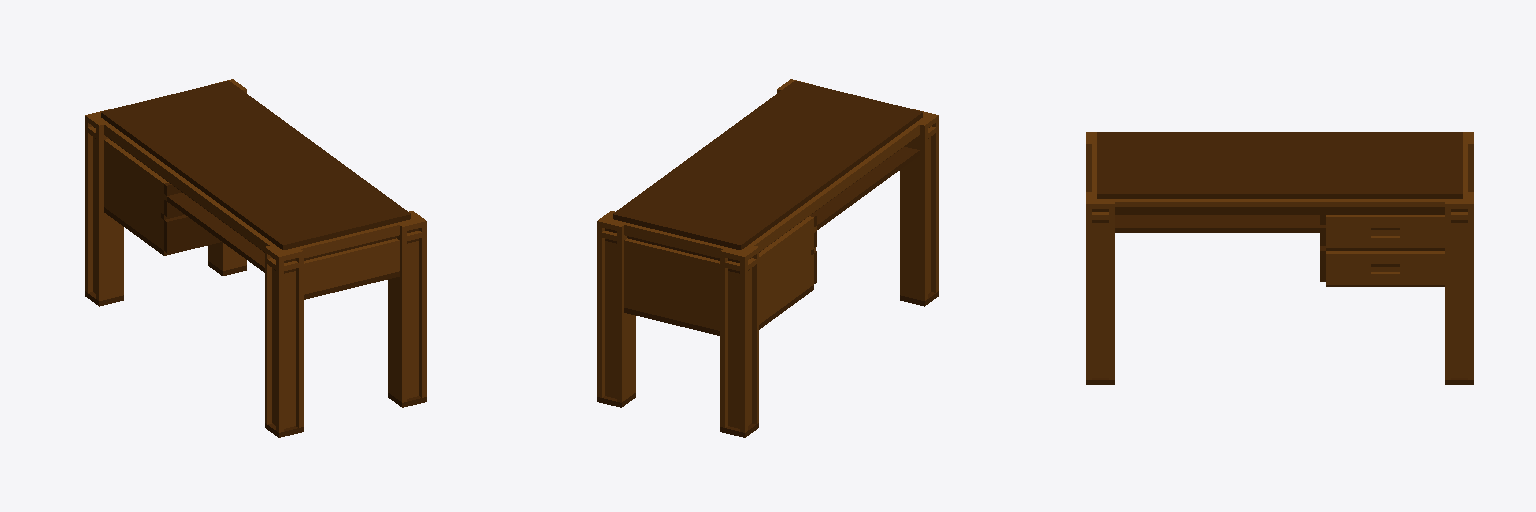
The picture shows the model from 3 angles: view 1: azimuth 30°, elevation 25°; view 2: azimuth 150°, elevation 25°; view 3: azimuth 270°, elevation 25°; orthographic projection.
Parts seen in each view (by area): view 1: mesa; view 2: mesa; view 3: mesa.
Part boxes in pixels (bbox=[...]): mesa: bbox=[85, 79, 426, 437]; mesa: bbox=[597, 79, 938, 437]; mesa: bbox=[1086, 132, 1473, 384].
Bounding box in the file's own units: 30 × 36 × 68.
Materials: 1 (1 with a texture image).